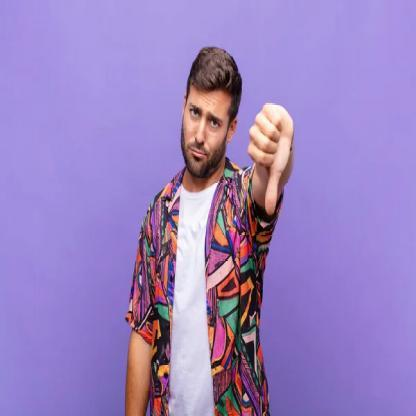thumb_down: (246, 99, 298, 223)
